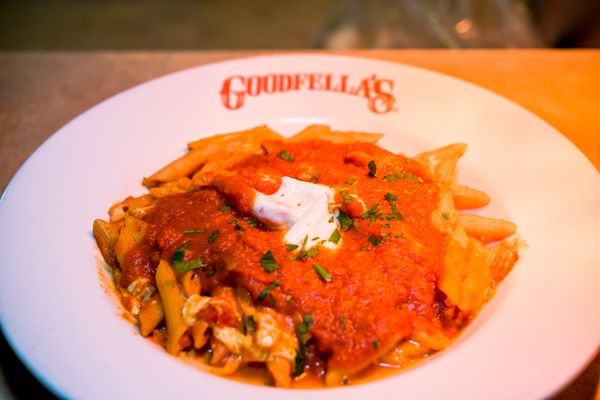sandwich: (55, 123, 528, 388)
